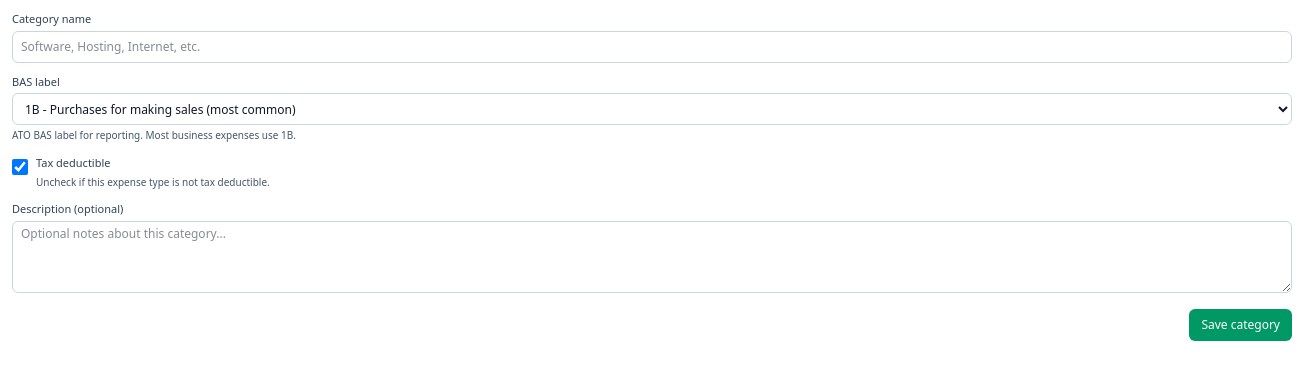
it: CategoryForm › validates required category name
Click the button "Save category". click: (1241, 325)
box: [1189,309,1292,341]
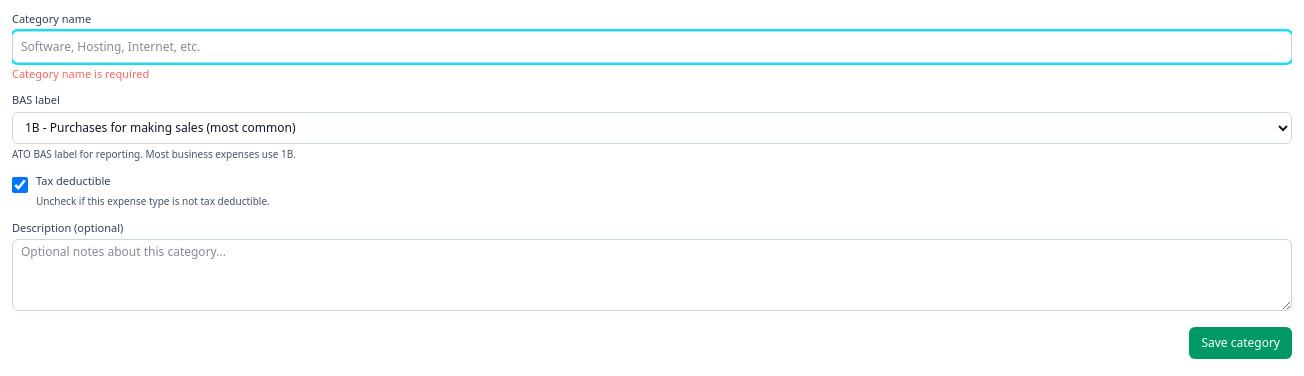
Expected: the text "Category name is required" is shown, [12,66,149,81]
